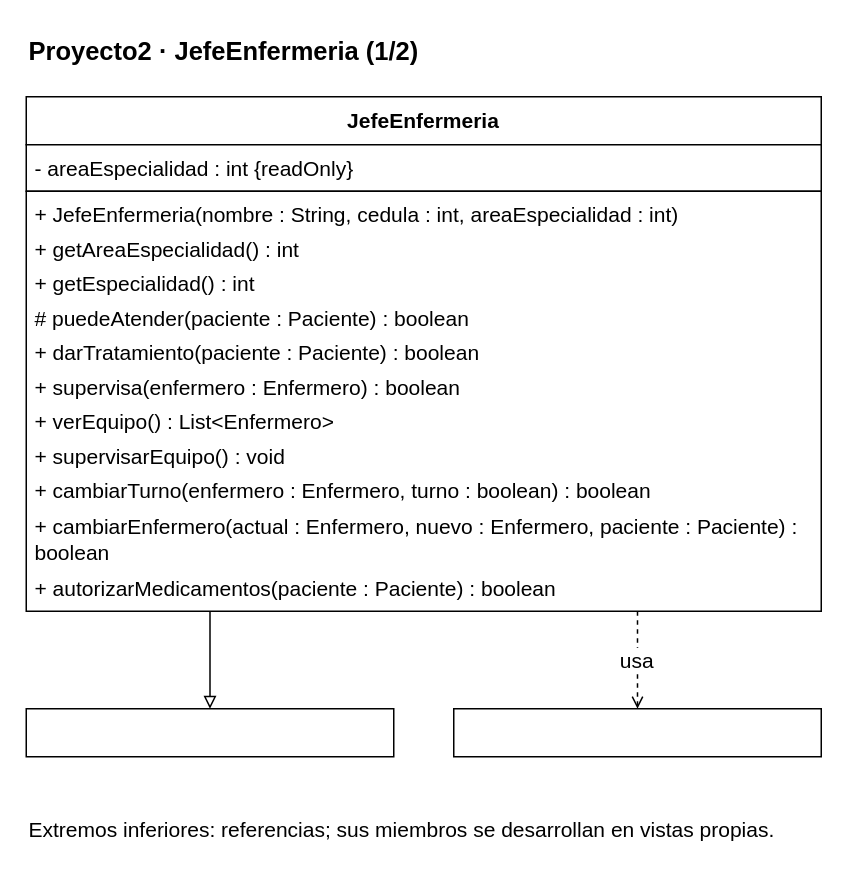
Some shapes in this 848 by 884 pixel diagram are drawn without their labels. The box of each missing label's shape, as (x1, y1, x2, y2) in pixels:
Enfermero: (25, 707, 394, 757)
Paciente: (452, 707, 821, 757)
